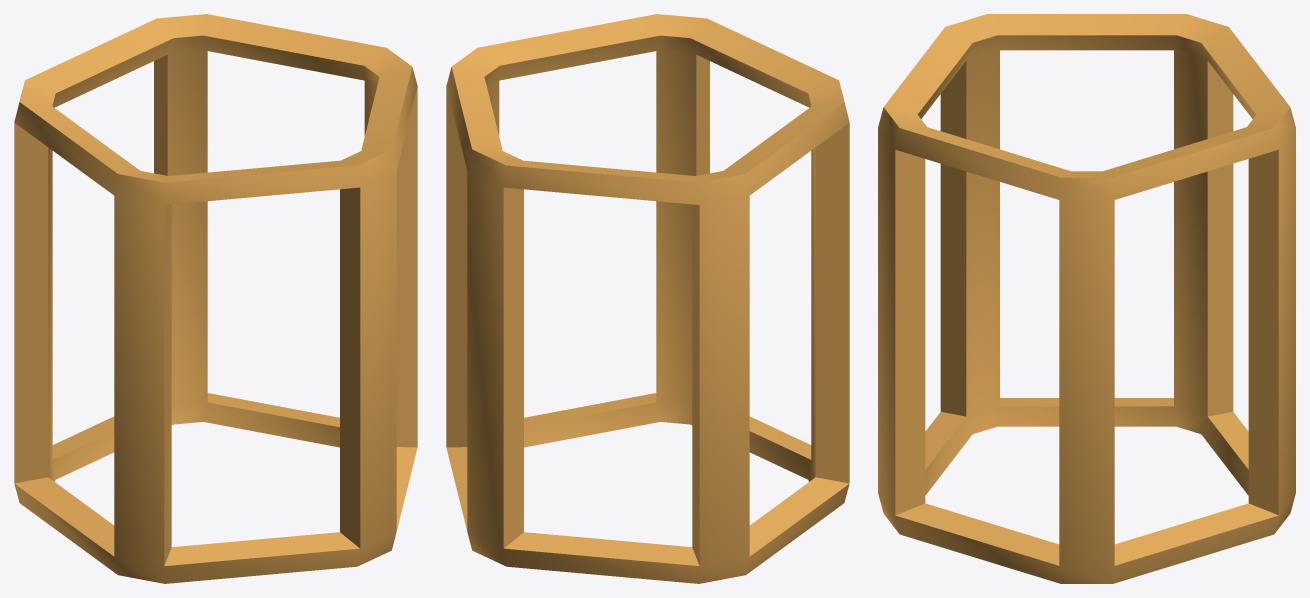
The model's file is CylinderMesh_03.fbx.
3 renders of one model, left to right at view 1: azimuth 30°, elevation 25°; view 2: azimuth 150°, elevation 25°; view 3: azimuth 270°, elevation 25°, orthographic.
Parts seen in each view (by area): view 1: CylinderMesh_03; view 2: CylinderMesh_03; view 3: CylinderMesh_03.
Boxes of the visible parts, <box> form: CylinderMesh_03: <box>14,14,417,583</box>; CylinderMesh_03: <box>446,14,849,583</box>; CylinderMesh_03: <box>878,14,1295,583</box>.
Size of the model in its own units: 284 by 320 by 298.
